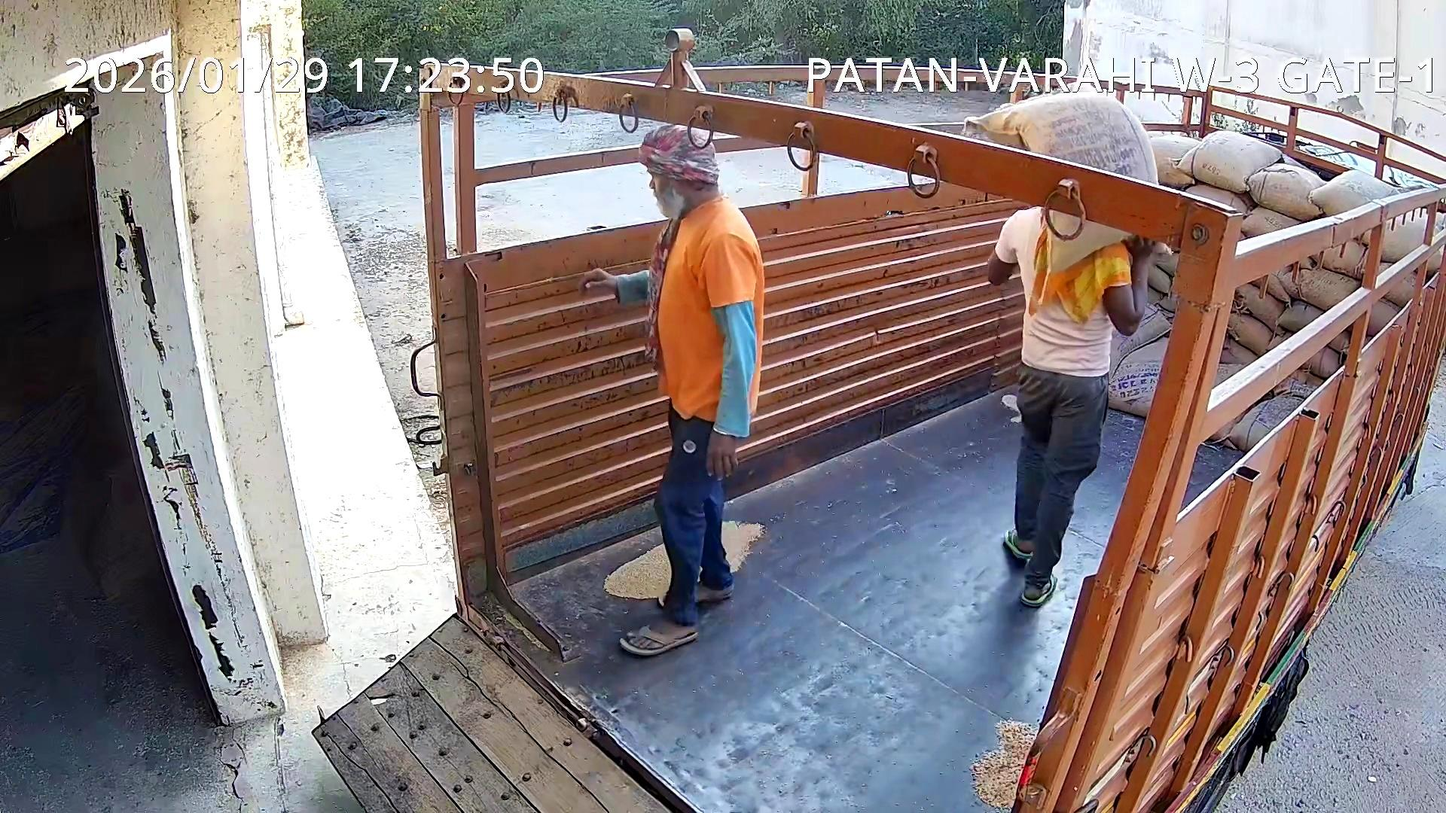Sack: (964, 92, 1158, 184), (1042, 215, 1128, 273)
